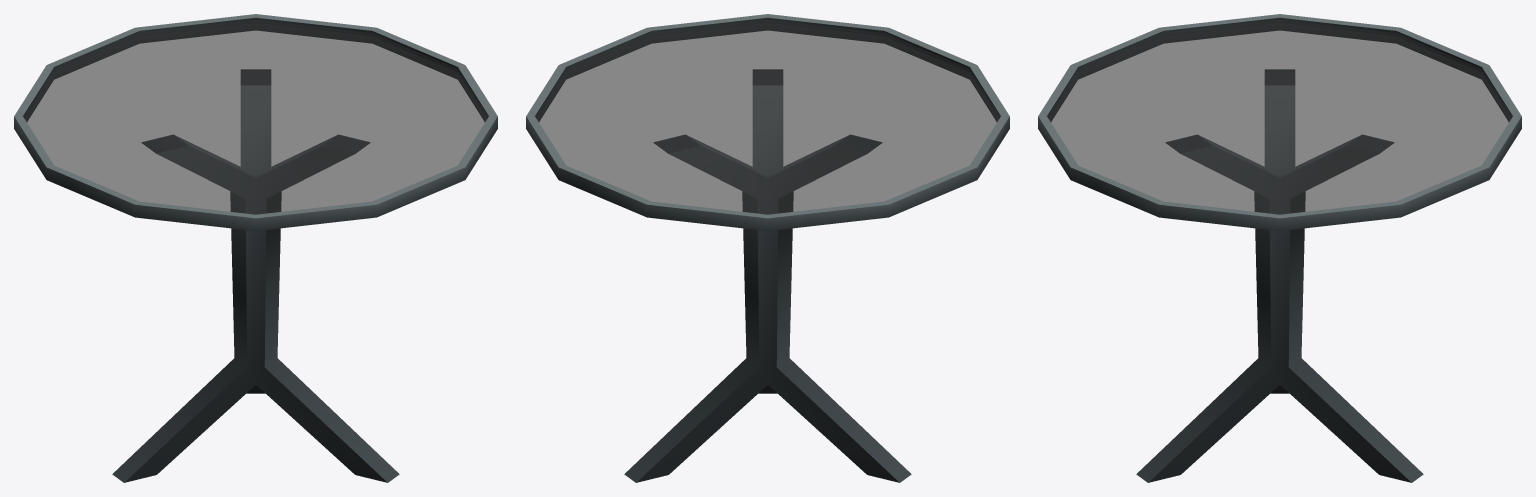
File: TSP_Metal_Table_01A.fbx
3 renders of one model, left to right at view 1: azimuth 30°, elevation 25°; view 2: azimuth 150°, elevation 25°; view 3: azimuth 270°, elevation 25°, orthographic.
Visible parts, largest first — view 1: TSP_Metal_Table_01A; view 2: TSP_Metal_Table_01A; view 3: TSP_Metal_Table_01A.
Part boxes in pixels (<box>): TSP_Metal_Table_01A: <box>14,14,497,482</box>; TSP_Metal_Table_01A: <box>526,14,1009,482</box>; TSP_Metal_Table_01A: <box>1038,14,1521,482</box>.
Size of the model in its own units: 1.2 by 0.9 by 1.2.
